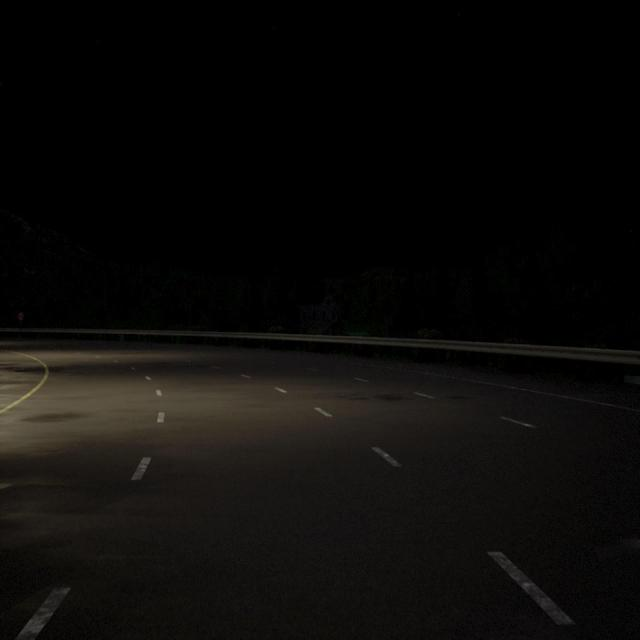Traffic_Signs: (17, 312, 23, 320)
